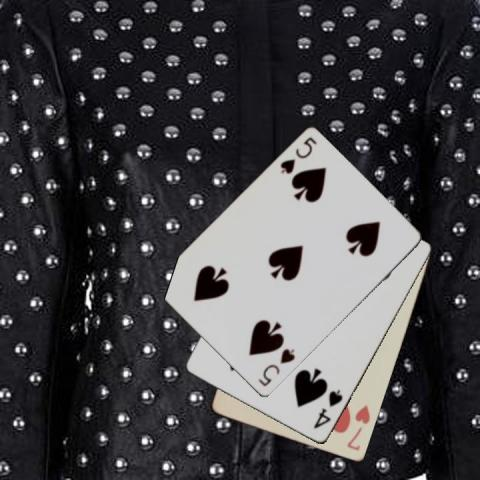4s: (311, 387, 344, 430)
5s: (255, 346, 296, 389), (277, 134, 318, 176)
7h: (344, 402, 372, 453)
